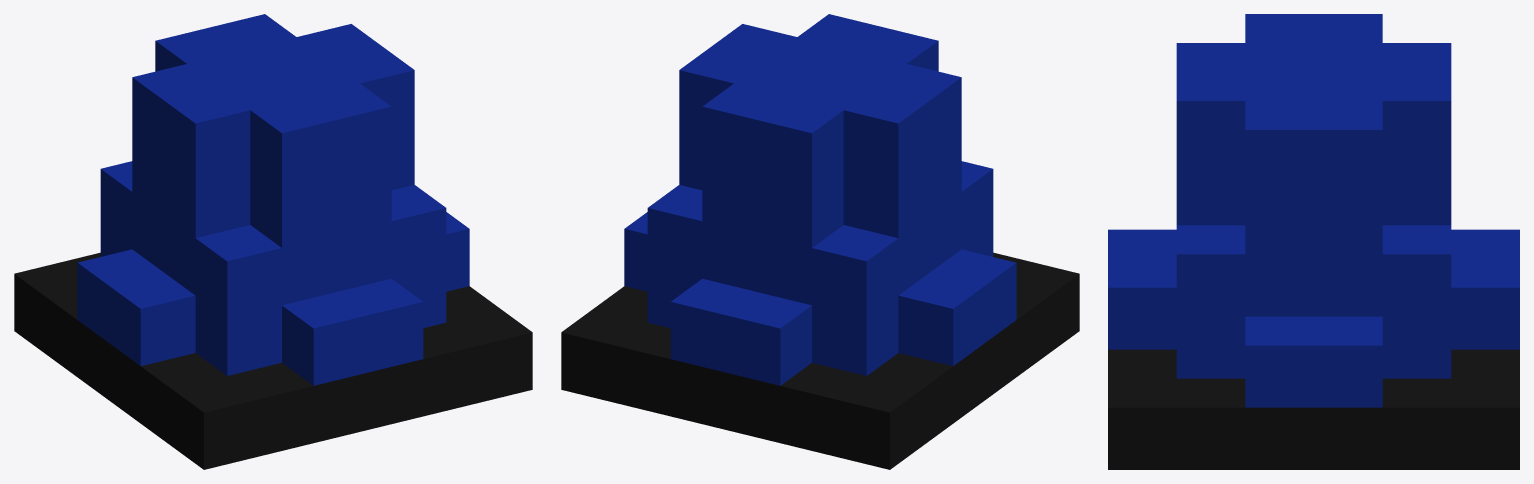
File: abandoned_ambulance_beacon.glb
3 views of the same model, side by side, from view 1: azimuth 30°, elevation 25°; view 2: azimuth 150°, elevation 25°; view 3: azimuth 270°, elevation 25° (orthographic). The views are drawn at different scales.
Parts seen in each view (by area): view 1: body:compound; view 2: body:compound; view 3: body:compound.
Boxes of the visible parts, <box> form: body:compound: <box>14,14,532,469</box>; body:compound: <box>561,14,1079,469</box>; body:compound: <box>1108,14,1519,469</box>.
Bounding box in the file's own units: 0.1875 × 0.1562 × 0.1875.
